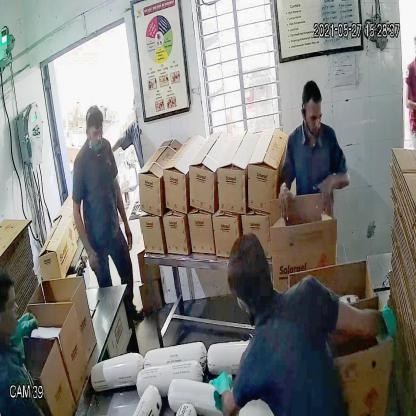no_goggles: (302, 108, 323, 127), (84, 125, 104, 141)
